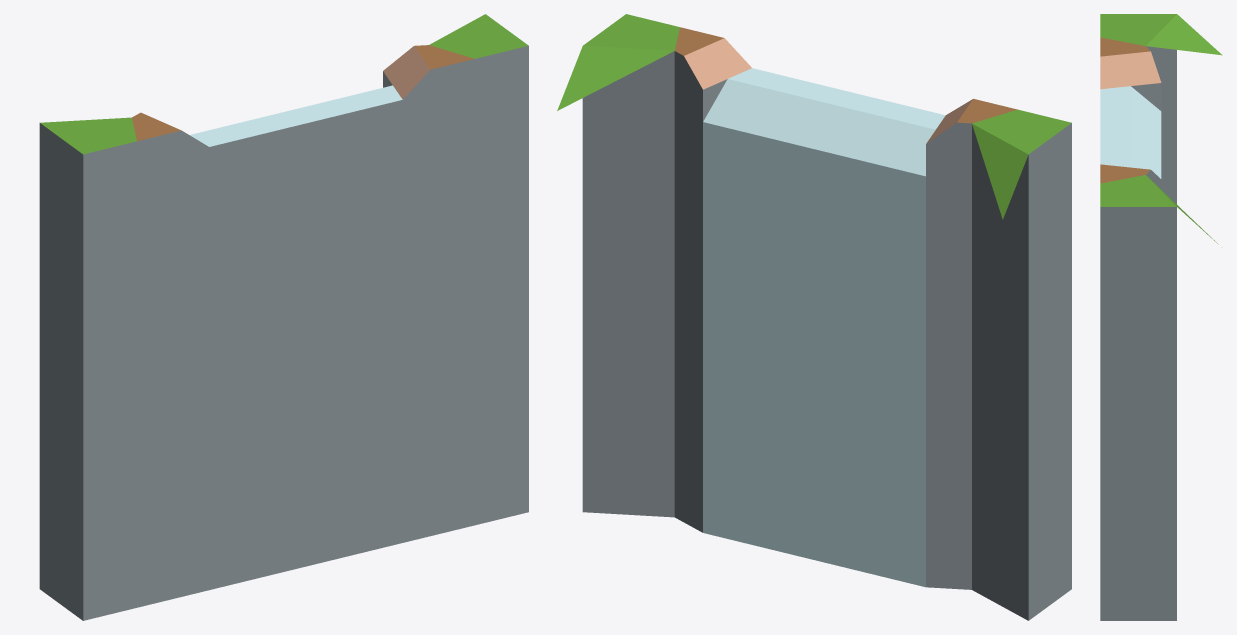
File: cliff_waterfallTop_stone.glb
3 renders of one model, left to right at view 1: azimuth 30°, elevation 25°; view 2: azimuth 150°, elevation 25°; view 3: azimuth 270°, elevation 25°, orthographic. The views are drawn at different scales.
Visible parts, largest first — view 1: cliff_waterfallTop_stone; view 2: cliff_waterfallTop_stone; view 3: cliff_waterfallTop_stone.
Boxes of the visible parts, x1,y1,x2,y2 form: cliff_waterfallTop_stone: (39,14,528,620); cliff_waterfallTop_stone: (557,14,1071,620); cliff_waterfallTop_stone: (1100,14,1222,620).
Bounding box in the file's own units: 1 × 1 × 0.2685.
